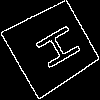H: (26, 22, 83, 77)
